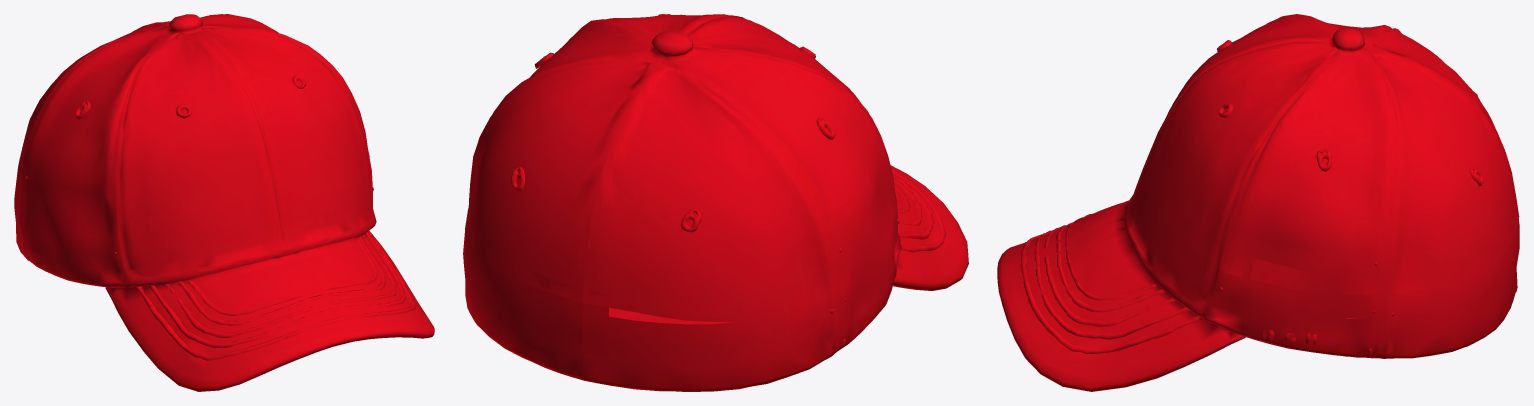
The model's file is cap-mst.glb.
3 views of the same model, side by side, from view 1: azimuth 30°, elevation 25°; view 2: azimuth 150°, elevation 25°; view 3: azimuth 270°, elevation 25° (orthographic). The views are drawn at different scales.
Parts seen in each view (by area): view 1: CapMST; view 2: CapMST; view 3: CapMST.
Part boxes in pixels (x1,y1,x2,y2): CapMST: (14, 14, 434, 391); CapMST: (463, 14, 968, 391); CapMST: (997, 14, 1519, 391).
Size of the model in its own units: 2.03 by 1.64 by 2.66.
Materials: 1 (1 with a texture image).
